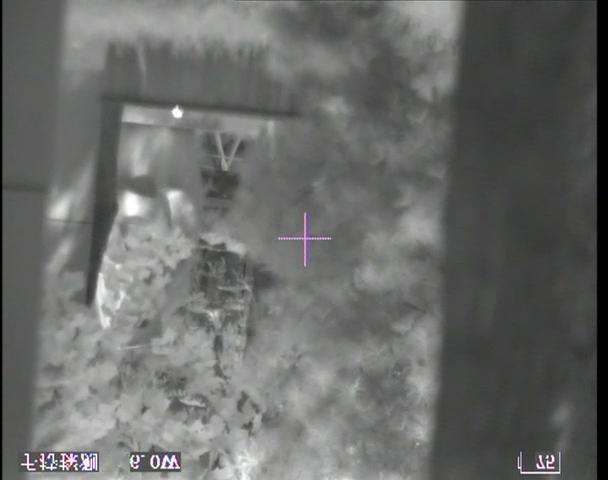my: (169, 103, 184, 118)
